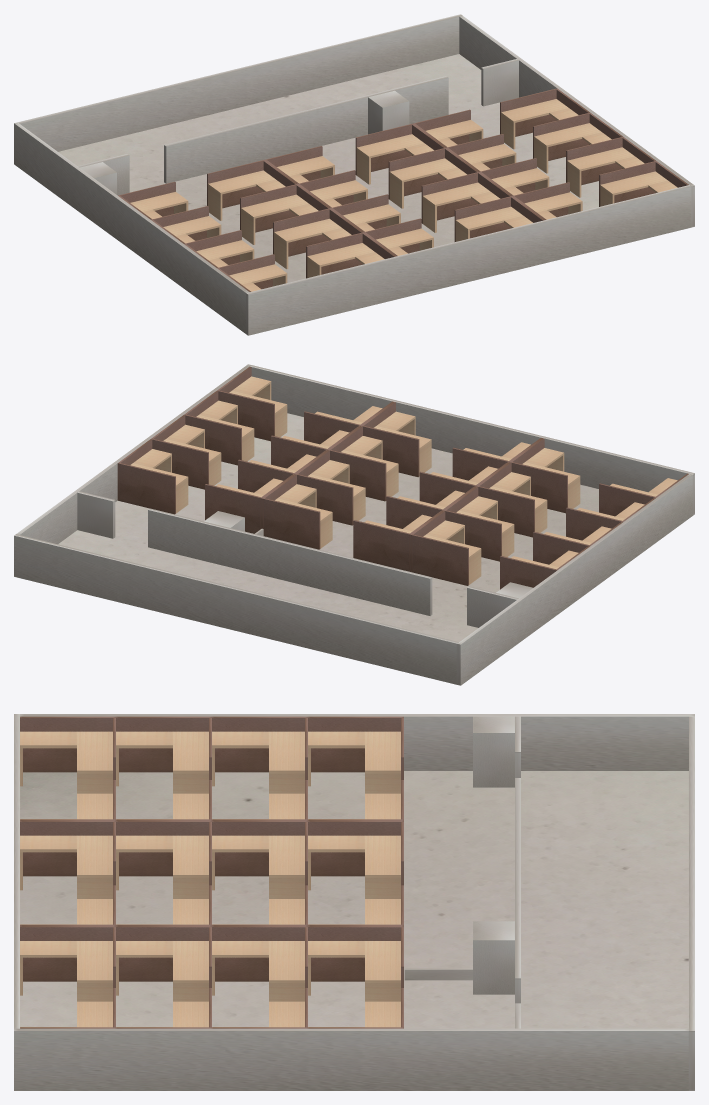
File: office.DAE
The picture shows the model from 3 angles, top to bottom: view 1: azimuth 30°, elevation 25°; view 2: azimuth 150°, elevation 25°; view 3: azimuth 270°, elevation 25°; orthographic projection. The views are drawn at different scales.
Visible parts, largest first — view 1: Box010, Box007, Box008, Box011, Box015, Box009, Box014, Box155, Box063, Box071, Box077, Box023 (+46 smaller); view 2: Box008, Box007, Box015, Box010, Box011, Box009, Box001, Box149, Box077, Box125, Box053, Box014 (+21 smaller); view 3: Box007, Box009, Box011, Box155, Box154, Box110, Box116, Box118, Box124, Box086, Box092, Box094 (+57 smaller).
Part boxes in pixels (x1,y1,x2,y2): Box010: (246, 185, 691, 335); Box007: (58, 54, 598, 282); Box008: (18, 14, 462, 151); Box011: (14, 122, 249, 333); Box015: (164, 76, 448, 183); Box009: (459, 15, 694, 227); Box014: (481, 59, 518, 106); Box155: (368, 90, 409, 134); Box063: (388, 148, 444, 199); Box071: (421, 172, 477, 223); Box077: (355, 124, 411, 175); Box023: (566, 137, 622, 185); Box008: (14, 534, 458, 684); Box007: (58, 413, 598, 641); Box015: (148, 508, 432, 615); Box010: (250, 365, 694, 515); Box011: (457, 474, 692, 685); Box009: (16, 364, 251, 544); Box001: (119, 463, 175, 514); Box149: (412, 534, 468, 585); Box077: (264, 498, 320, 549); Box125: (353, 520, 409, 571); Box053: (205, 484, 260, 533); Box014: (77, 491, 115, 538); Box007: (20, 771, 688, 1028); Box009: (14, 1028, 688, 1090); Box011: (20, 714, 694, 770); Box155: (473, 921, 514, 994); Box154: (473, 716, 514, 787); Box110: (212, 820, 307, 876); Box116: (20, 820, 115, 876); Box118: (116, 820, 211, 876); Box124: (308, 820, 403, 876); Box086: (116, 716, 211, 772); Box092: (20, 716, 115, 772); Box094: (212, 716, 307, 772).
Size of the model in its own units: 1250 by 1135 by 110.
4 materials, 4 textured.
